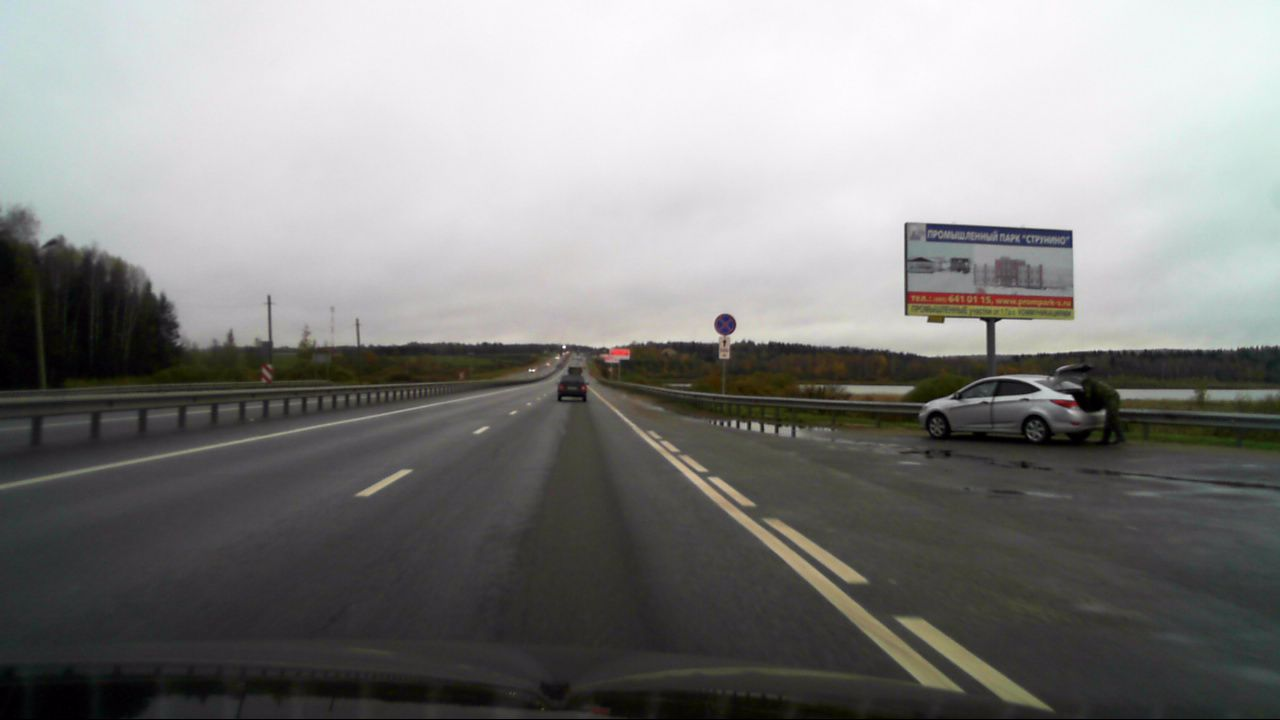No Parking: (713, 313, 736, 335)
